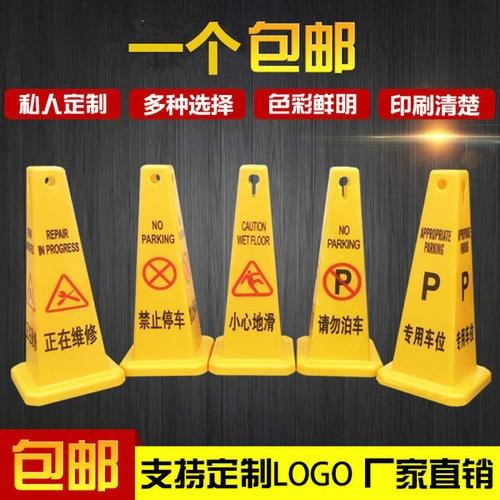cone_barrel: (4, 173, 129, 405), (375, 176, 495, 406), (115, 171, 211, 371), (291, 173, 382, 381), (208, 172, 291, 377)
